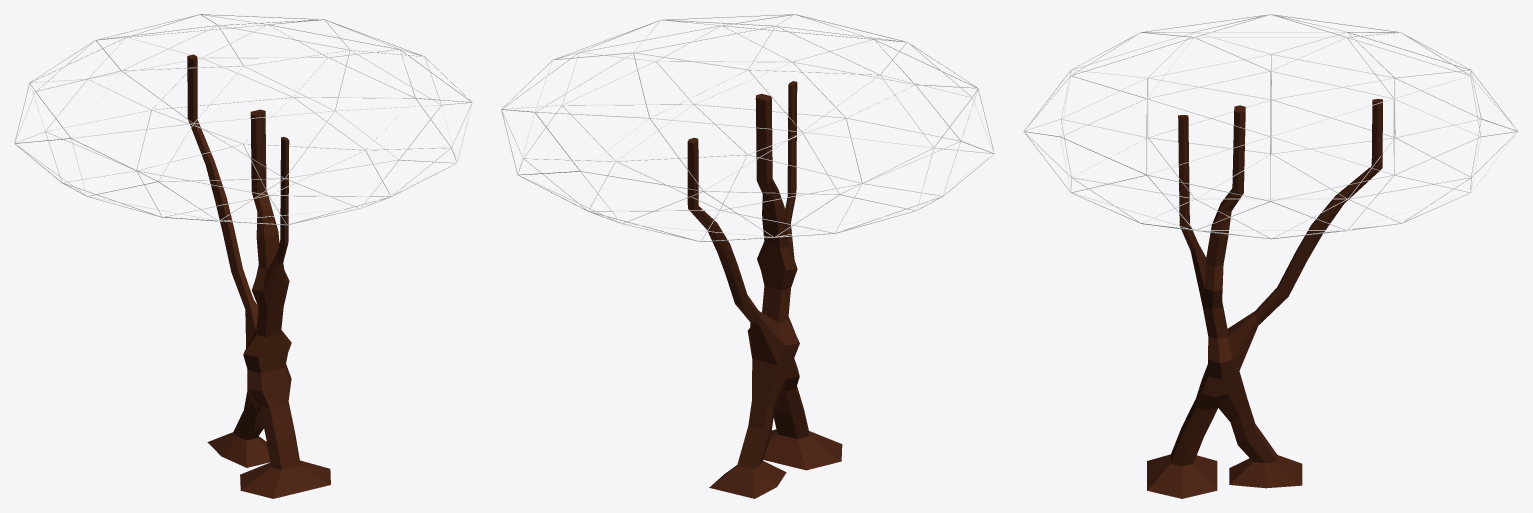
Rendered from tree5.glb.
The picture shows the model from 3 angles, left to right: view 1: azimuth 30°, elevation 25°; view 2: azimuth 150°, elevation 25°; view 3: azimuth 270°, elevation 25°; orthographic projection. The views are drawn at different scales.
Visible parts, largest first — view 1: Cube.001, Icosphere; view 2: Cube.001, Icosphere; view 3: Cube.001, Icosphere.
Boxes of the visible parts, x1,y1,x2,y2 form: Cube.001: (187, 54, 330, 498); Icosphere: (14, 14, 472, 225); Cube.001: (687, 81, 842, 498); Icosphere: (501, 14, 994, 241); Cube.001: (1147, 99, 1382, 498); Icosphere: (1023, 14, 1518, 239).
Bounding box in the file's own units: 2.16 × 2.05 × 2.27.
